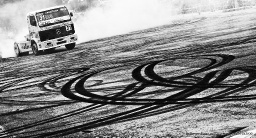truck: (7, 5, 87, 57)
